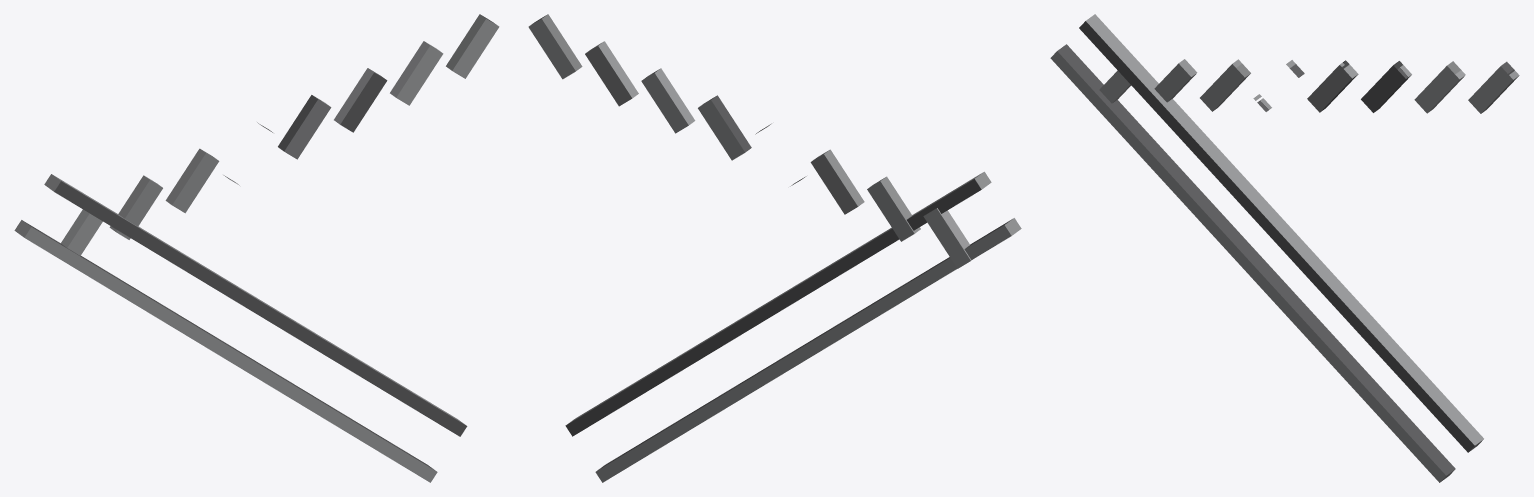
The picture shows the model from 3 angles, left to right: view 1: azimuth 30°, elevation 25°; view 2: azimuth 150°, elevation 25°; view 3: azimuth 330°, elevation 25°; orthographic projection. The views are drawn at different scales.
Size of the model in its own units: 1.06 by 0.9473 by 0.0405.
